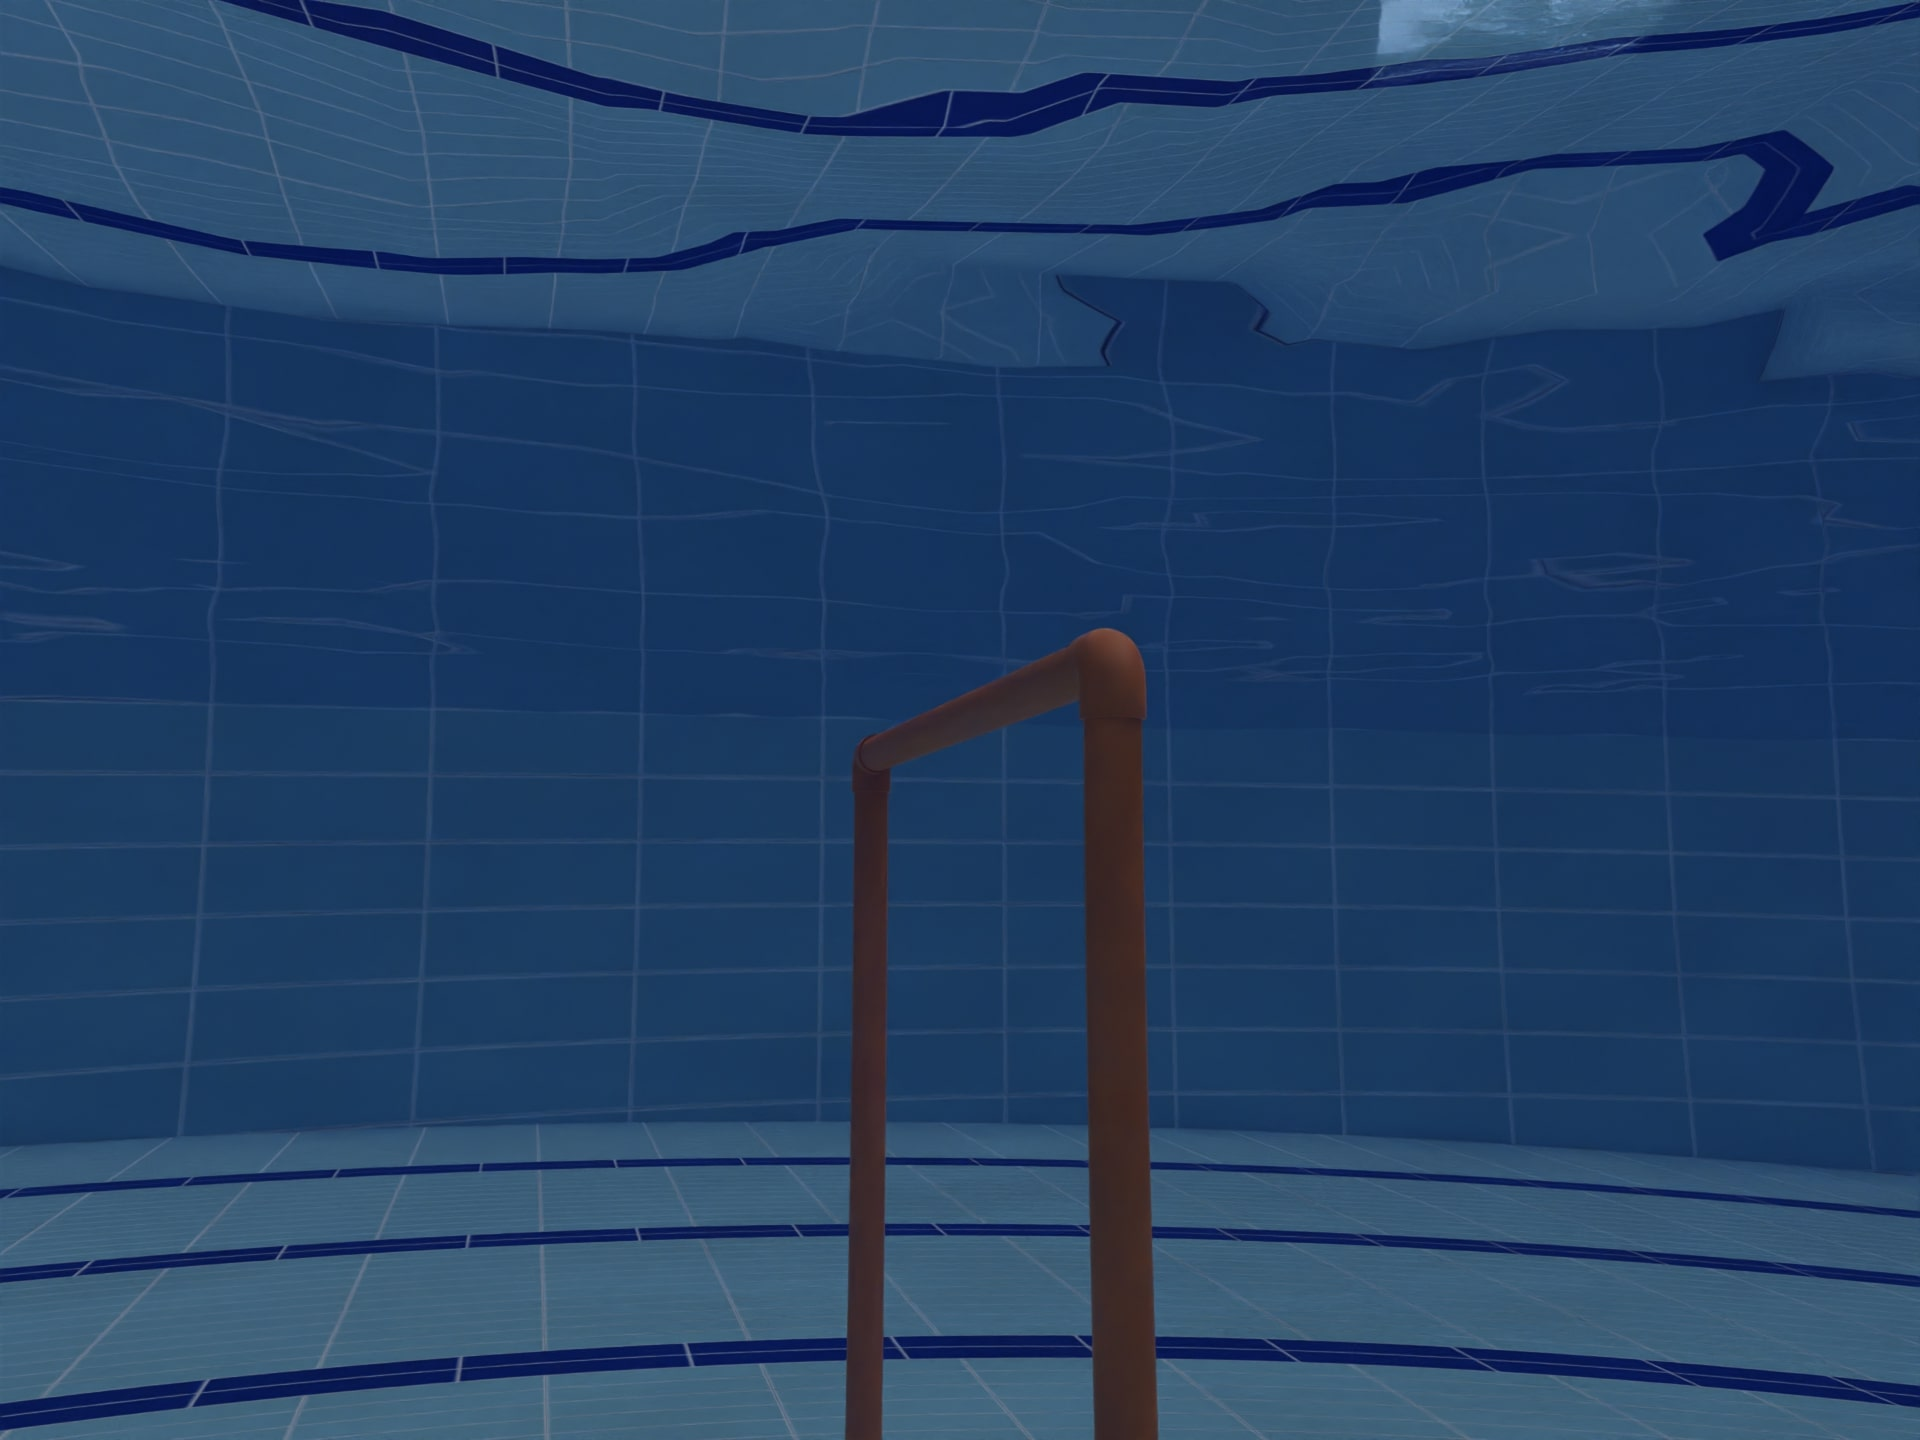gate: (804, 607, 1247, 1440)
